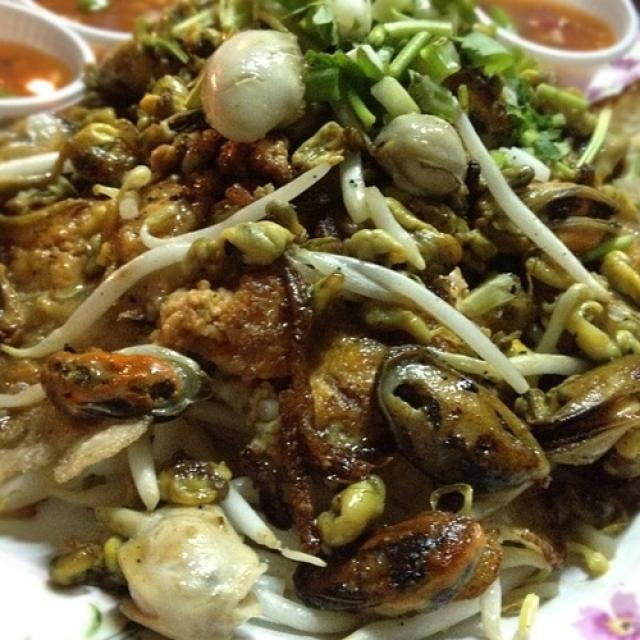炸货点心: (19, 18, 613, 626)
蛋糕甜品: (19, 18, 613, 626)
